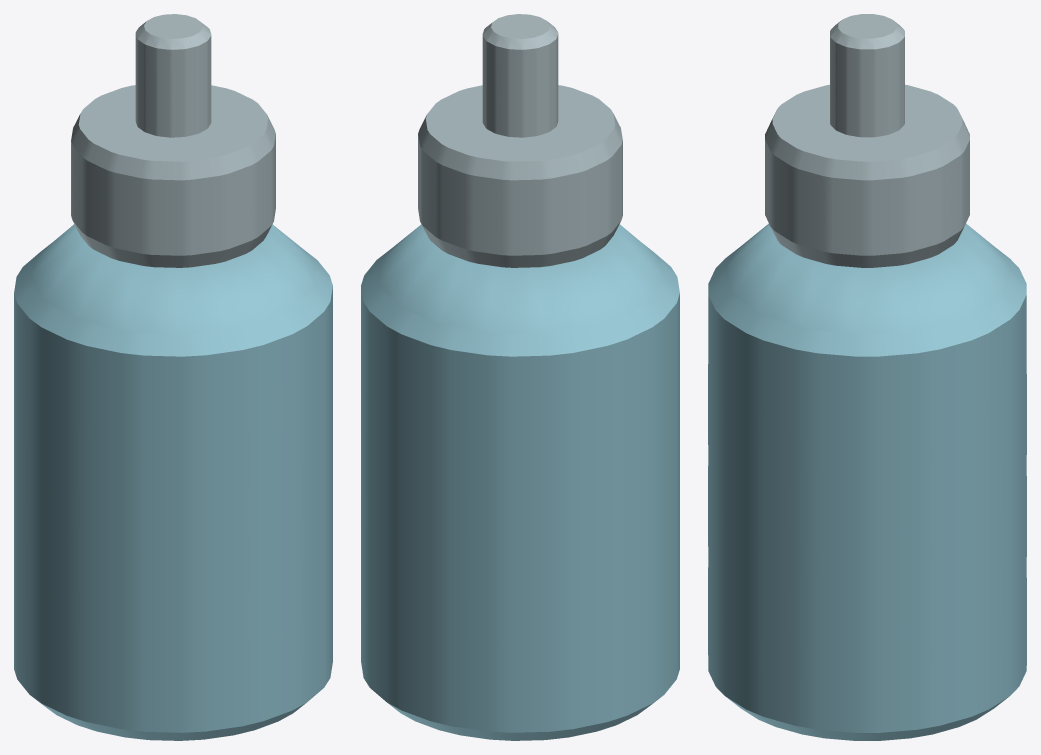
Rendered from Serum Bottle.fbx.
The picture shows the model from 3 angles, left to right: view 1: azimuth 30°, elevation 25°; view 2: azimuth 150°, elevation 25°; view 3: azimuth 270°, elevation 25°; orthographic projection.
Parts seen in each view (by area): view 1: main, lid, squeeze; view 2: main, lid, squeeze; view 3: main, lid, squeeze.
Part boxes in pixels (x1,y1,x2,y2): main: (14,224,332,740); lid: (71,85,275,267); squeeze: (135,14,211,137); main: (361,224,679,740); lid: (418,85,622,267); squeeze: (482,14,558,137); main: (708,223,1026,740); lid: (765,84,969,267); squeeze: (830,14,904,137).
Bounding box in the file's own units: 2.5 × 5.66 × 2.5.
